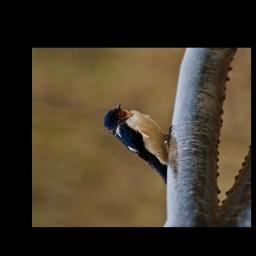Swallow: (90, 100, 185, 185)
